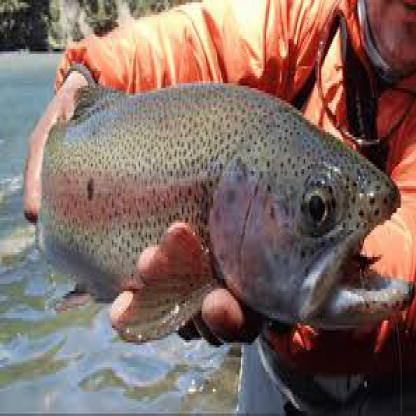fish: (32, 74, 412, 344)
